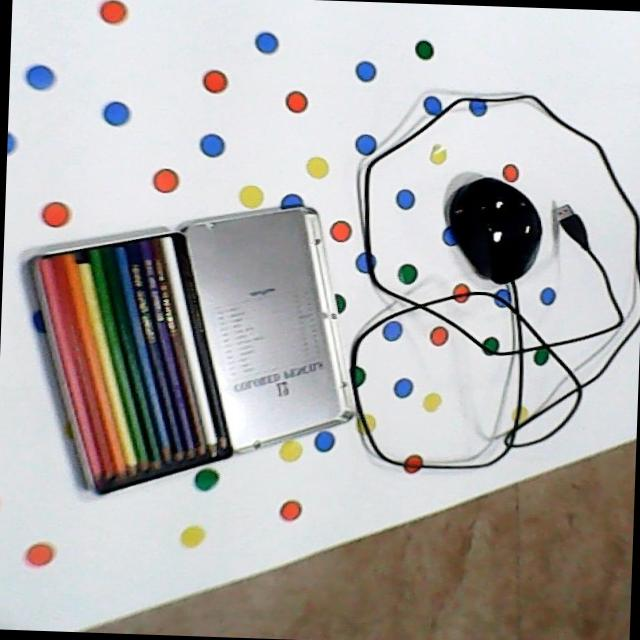color: (9, 194, 368, 506)
mouse: (438, 165, 551, 292)
